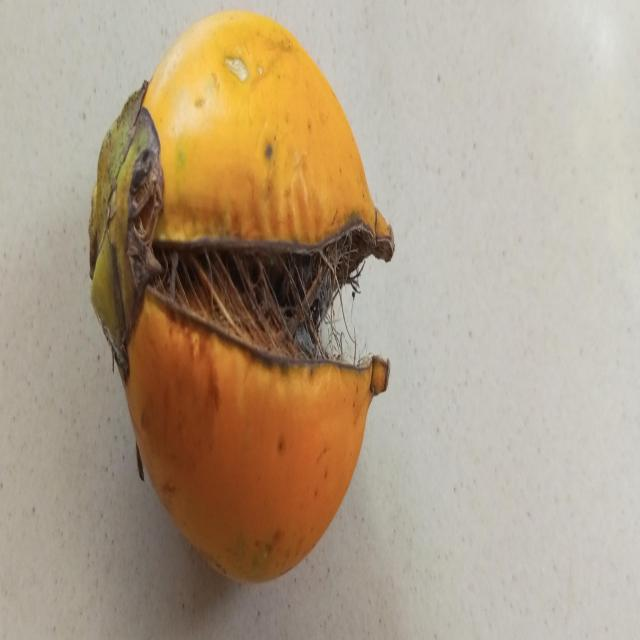damaged: (89, 11, 394, 582)
